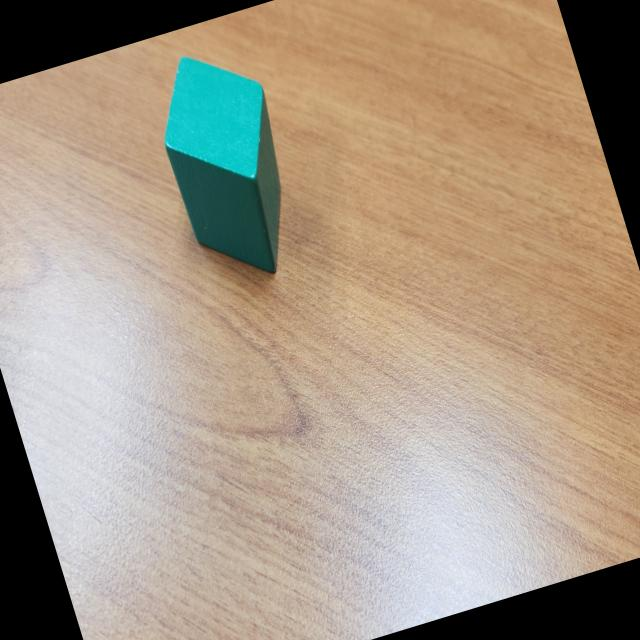green: (138, 34, 318, 296)
